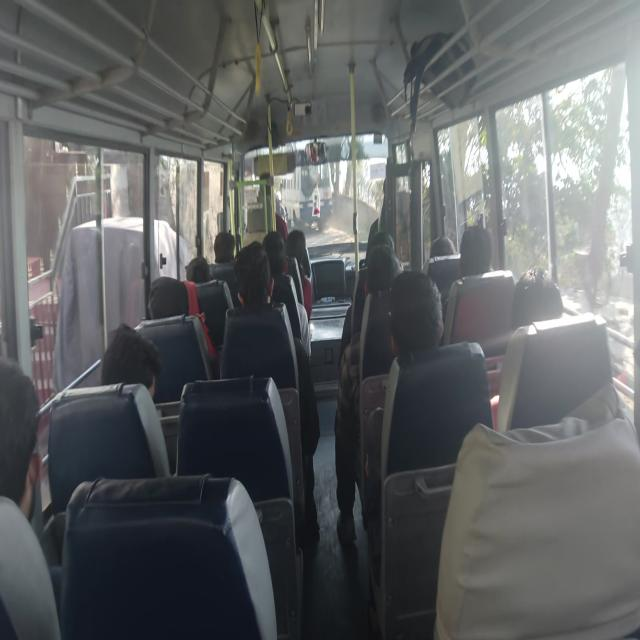person: (433, 382, 640, 638), (359, 269, 494, 552), (51, 163, 189, 391), (220, 239, 320, 537), (334, 235, 402, 546), (0, 356, 61, 638), (100, 322, 172, 475), (0, 356, 42, 520), (262, 230, 311, 360), (100, 322, 162, 400), (511, 266, 564, 330), (285, 229, 313, 319), (458, 224, 493, 277), (185, 255, 213, 282), (213, 231, 235, 263), (429, 235, 456, 258)
